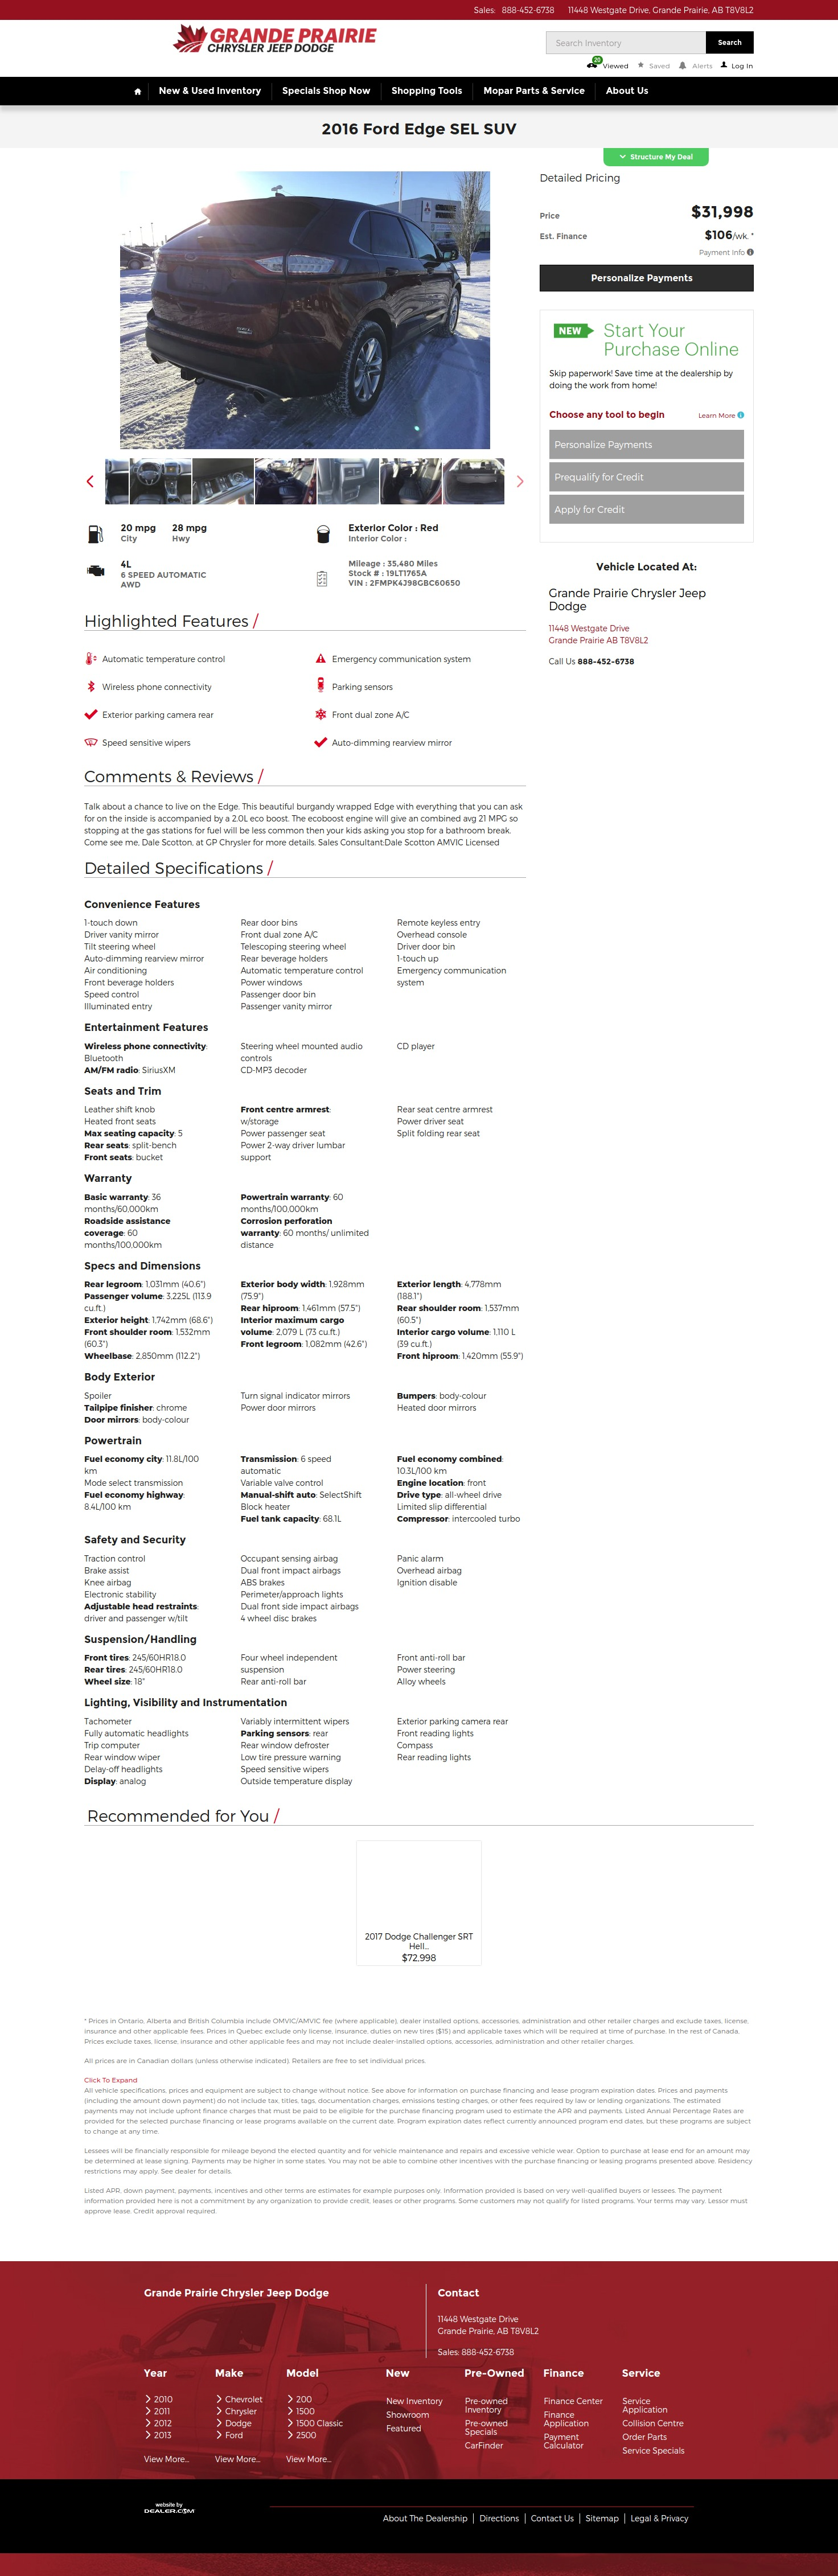car: (518, 476, 524, 488)
